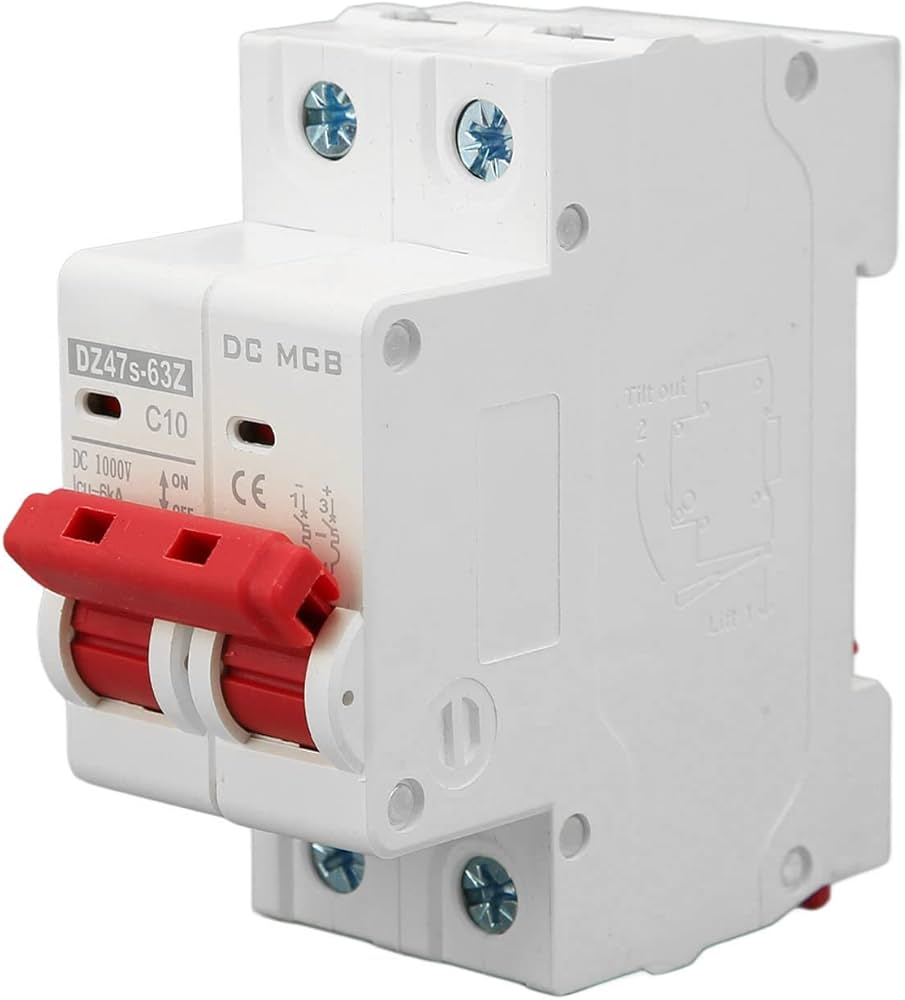devre_kesici: (15, 1, 897, 989)
